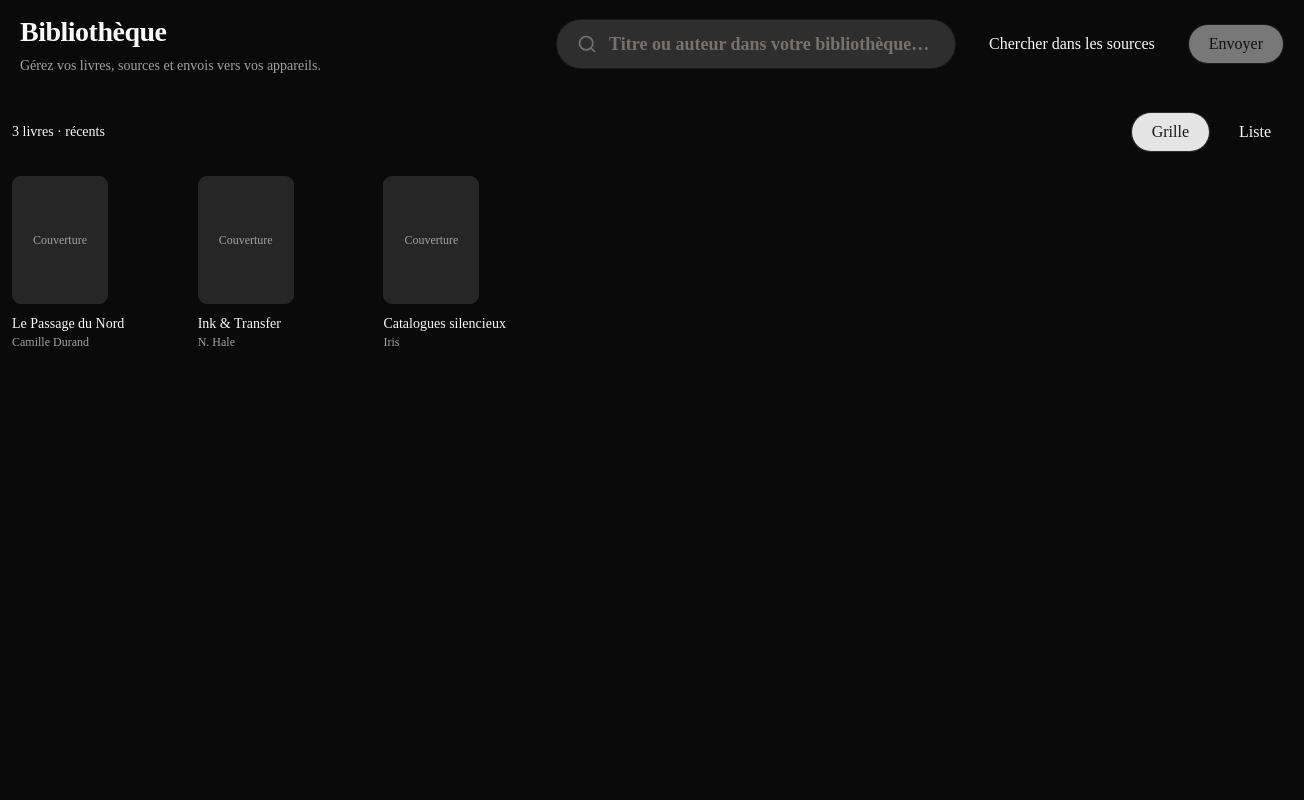
it: UI harness — Pen library composition › switches from grid to list via view chips
The image size is (1304, 800).
Expected: the list with test id "library-book-grid" is shown, [12,176,523,350]
Click the button "Liste".
click(1255, 132)  # box [1218,112,1292,152]
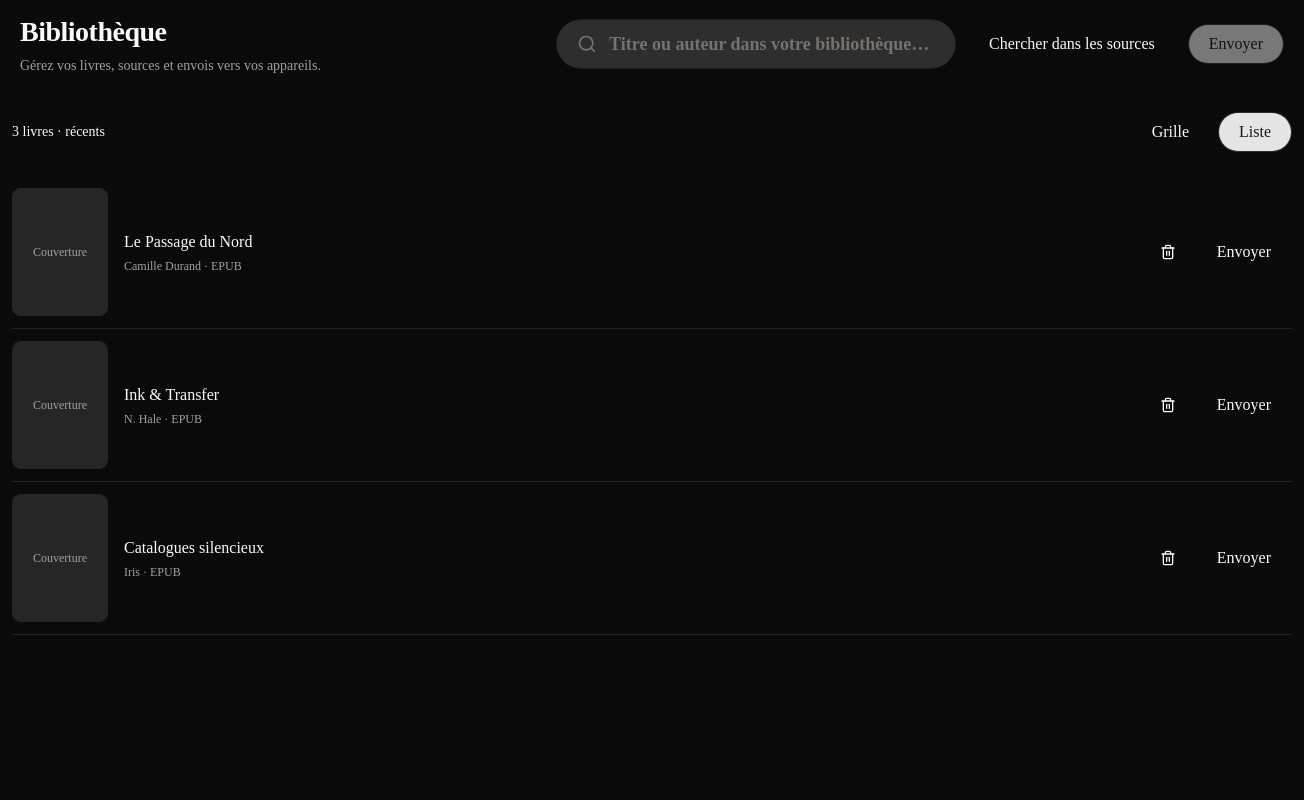
Expected: the text "Le Passage du Nord" is shown, [124,230,252,254]
Expected: the list with test id "library-book-grid" is gone
Expected: the text "Camille Durand · EPUB" is shown, [124,258,242,274]
